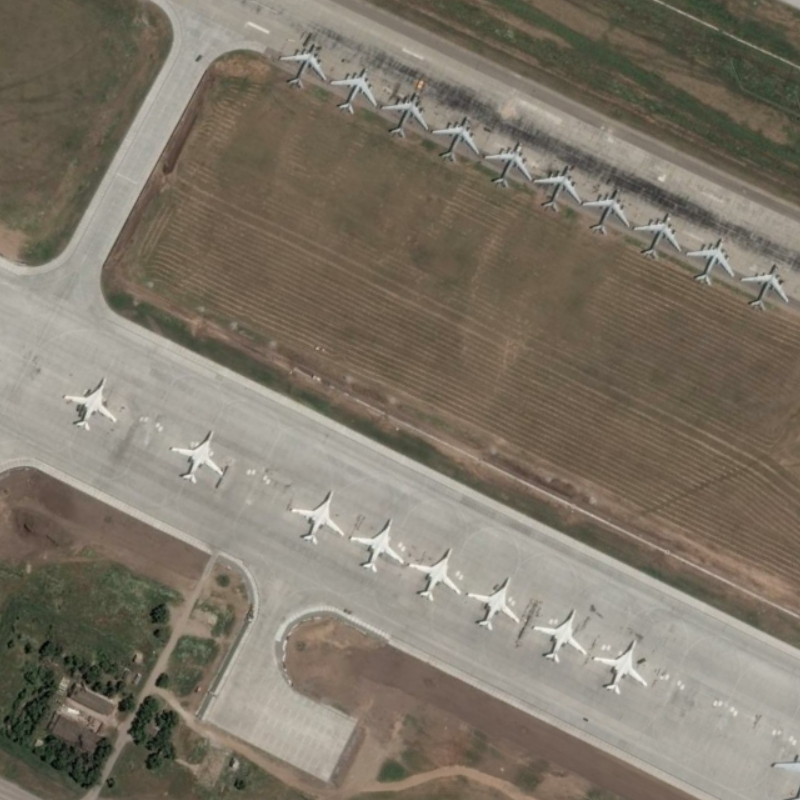A17: (684, 235, 737, 287), (378, 88, 430, 140), (532, 161, 583, 214), (738, 262, 791, 313), (633, 210, 683, 263), (482, 140, 533, 191), (279, 40, 329, 92), (328, 65, 378, 117), (431, 113, 481, 165), (582, 187, 631, 234)
A6: (347, 514, 405, 575), (288, 487, 346, 548), (591, 637, 649, 696), (60, 374, 119, 432), (405, 545, 463, 603), (168, 428, 225, 487), (531, 606, 587, 664), (466, 575, 522, 633)
